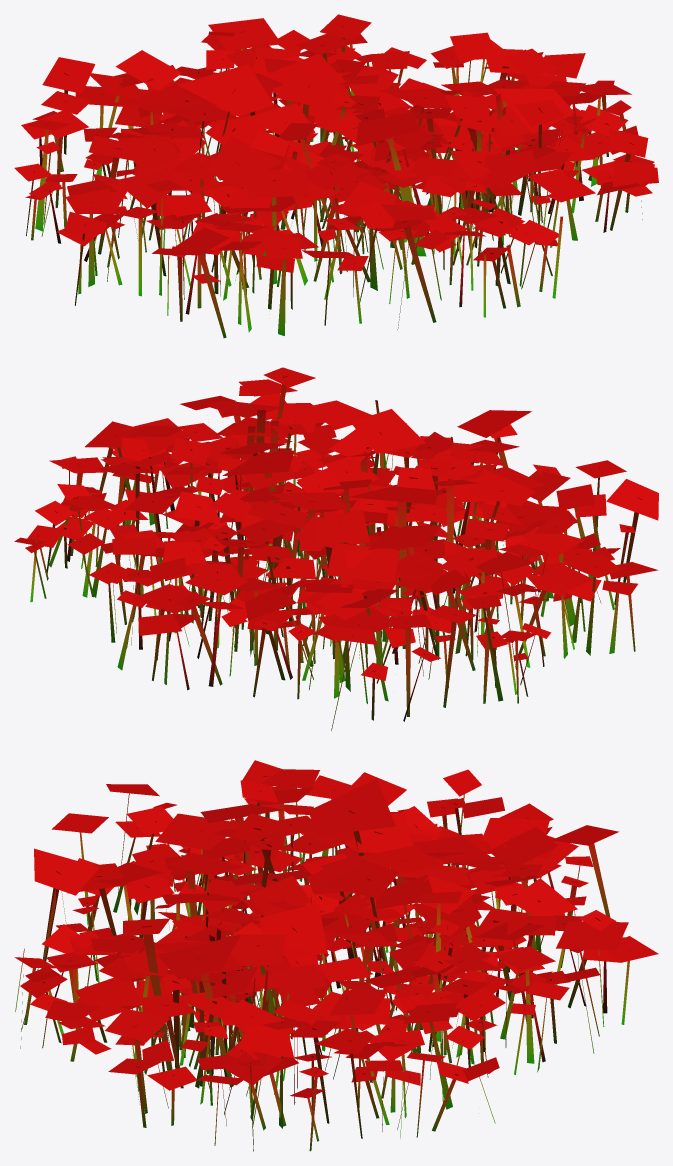
Rendered from Plant_B_05.FBX.
The picture shows the model from 3 angles, top to bottom: view 1: azimuth 30°, elevation 25°; view 2: azimuth 150°, elevation 25°; view 3: azimuth 270°, elevation 25°; orthographic projection. The views are drawn at different scales.
Parts seen in each view (by area): view 1: Geometry_Plant_B_05_LOD00; view 2: Geometry_Plant_B_05_LOD00; view 3: Geometry_Plant_B_05_LOD00.
Part boxes in pixels (x1,y1,x2,y2): Geometry_Plant_B_05_LOD00: [14, 14, 658, 338]; Geometry_Plant_B_05_LOD00: [14, 367, 658, 730]; Geometry_Plant_B_05_LOD00: [14, 760, 658, 1151].
Size of what is drawn, in the model's own units: 81.83 by 20.34 by 72.61.
